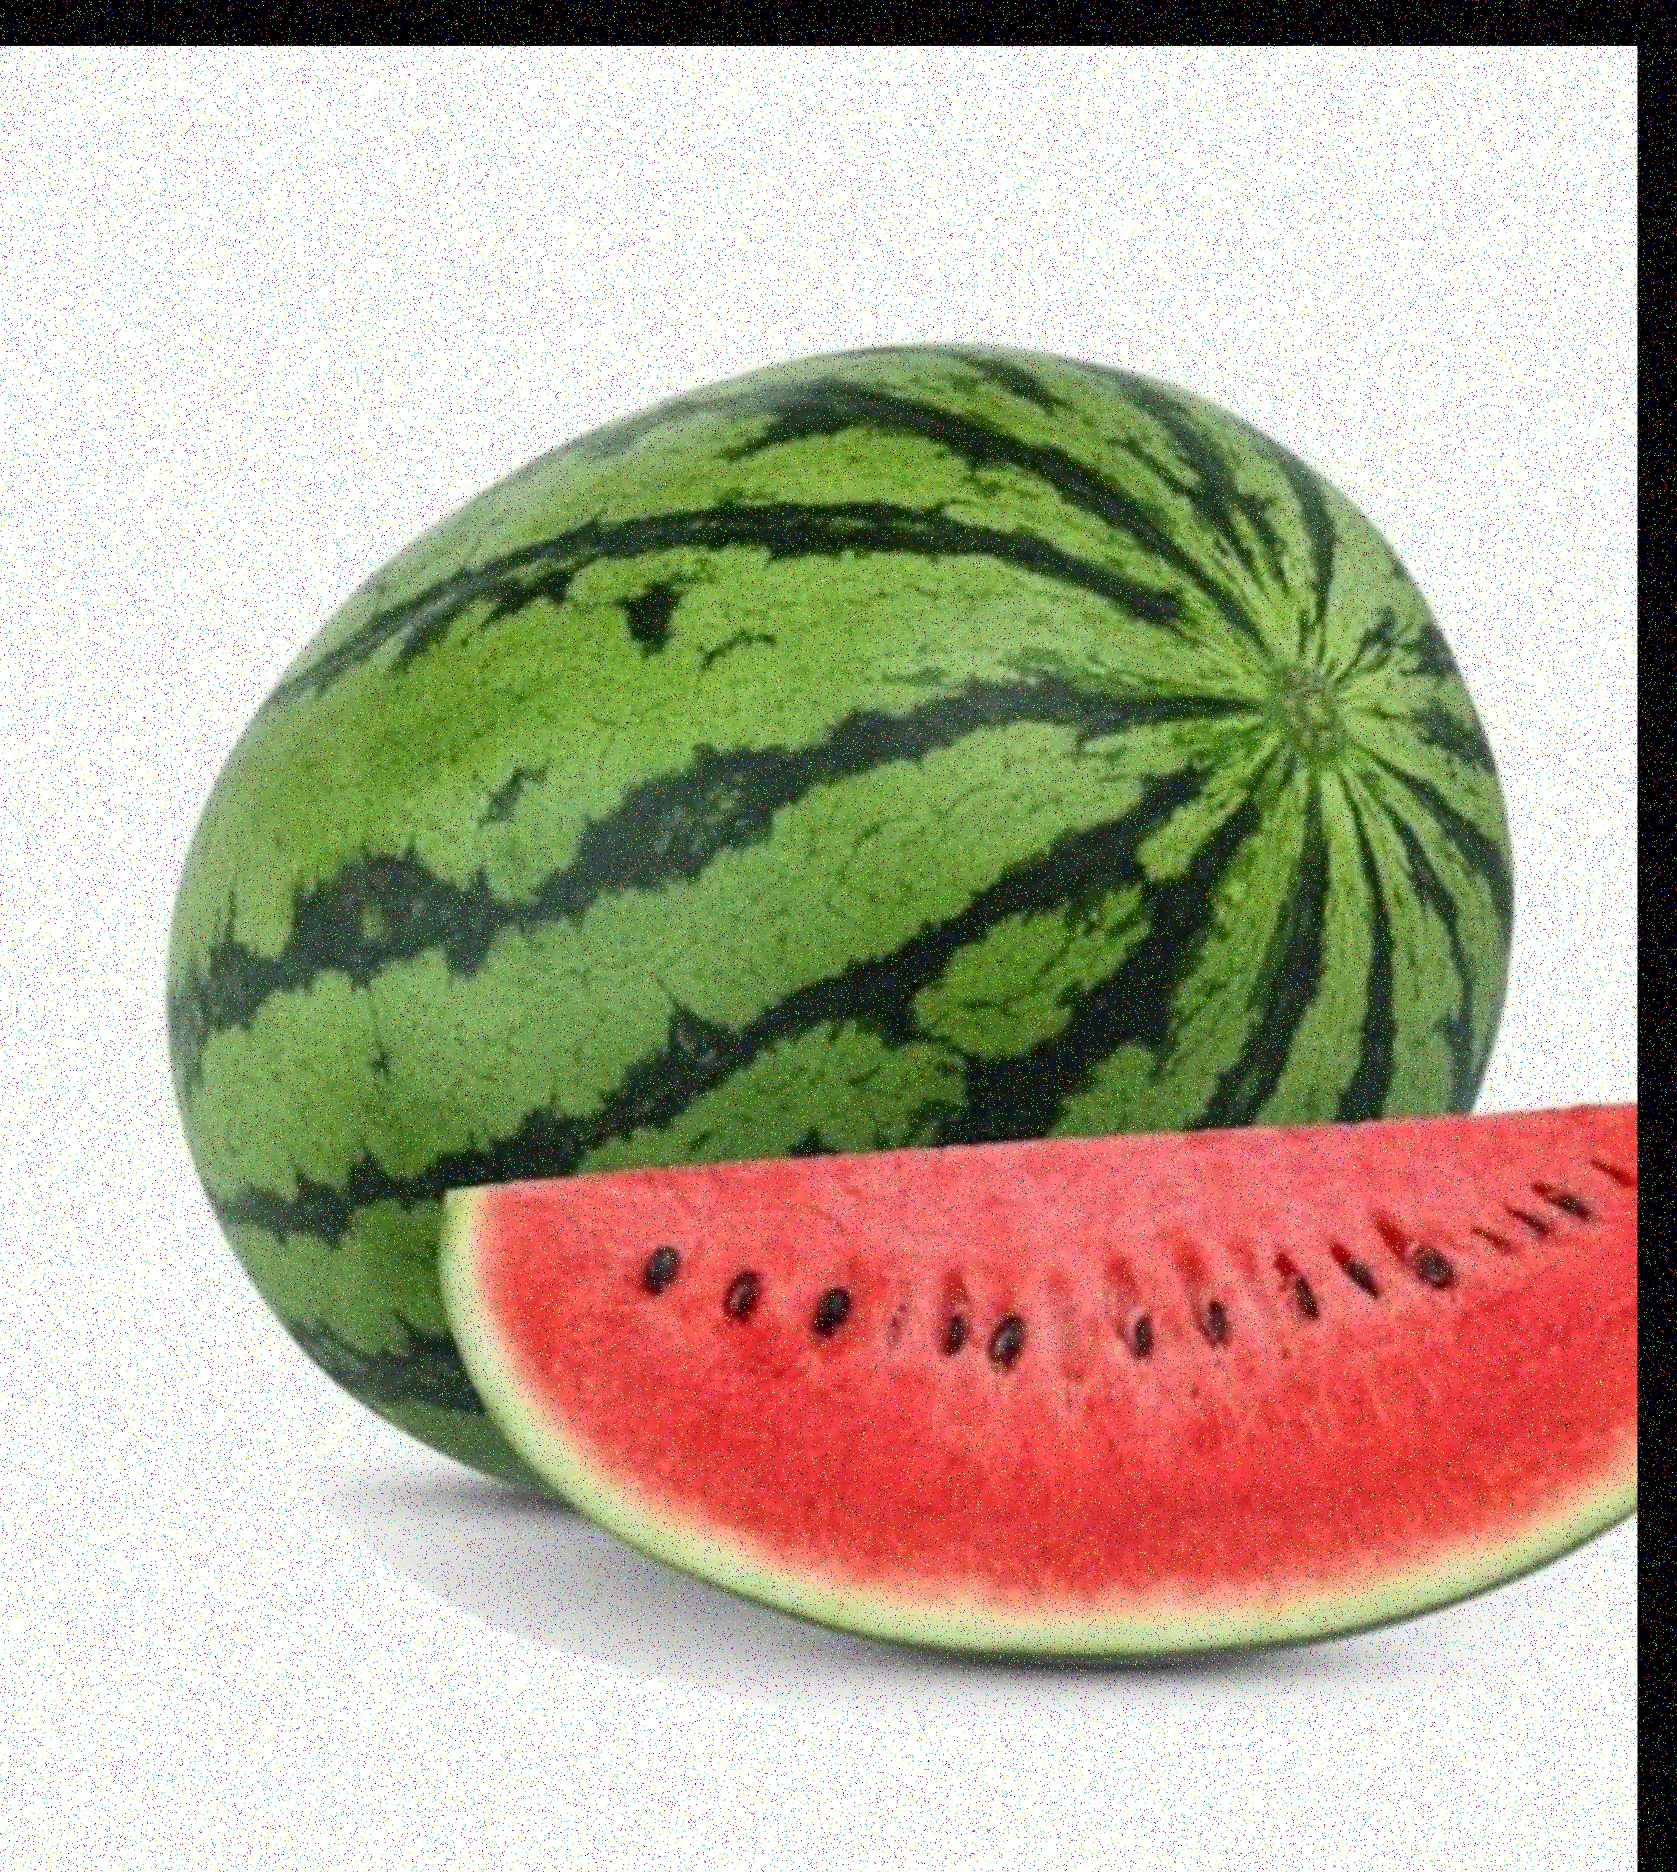watermelon: (117, 345, 1611, 1535)
